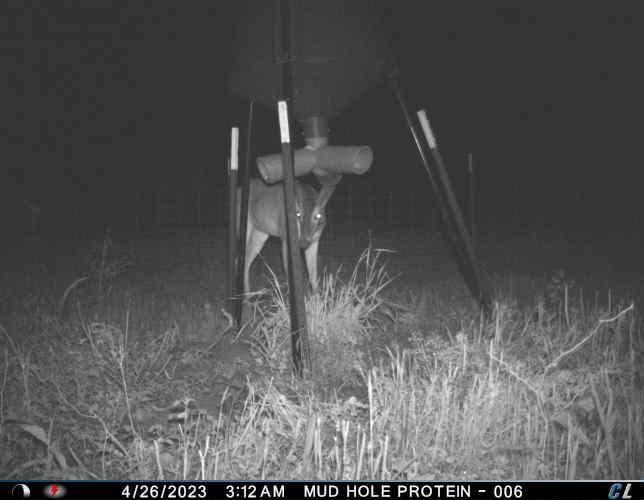Deer: (232, 171, 344, 303)
